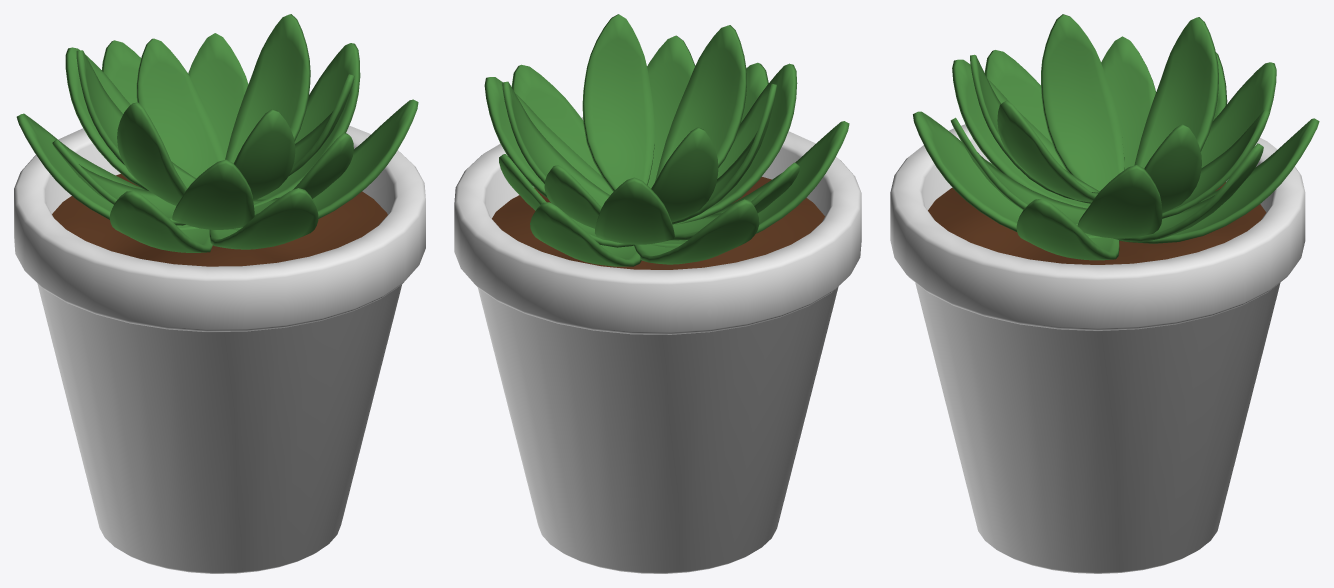
File: Succulent 1.fbx
3 renders of one model, left to right at view 1: azimuth 30°, elevation 25°; view 2: azimuth 150°, elevation 25°; view 3: azimuth 270°, elevation 25°, orthographic.
Visible parts, largest first — view 1: Sukulen 3; view 2: Sukulen 3; view 3: Sukulen 3.
Boxes of the visible parts, x1,y1,x2,y2 form: Sukulen 3: (14,14,425,573); Sukulen 3: (454,14,861,573); Sukulen 3: (890,14,1319,573).
Bounding box in the file's own units: 27.95 × 34.57 × 28.91.
